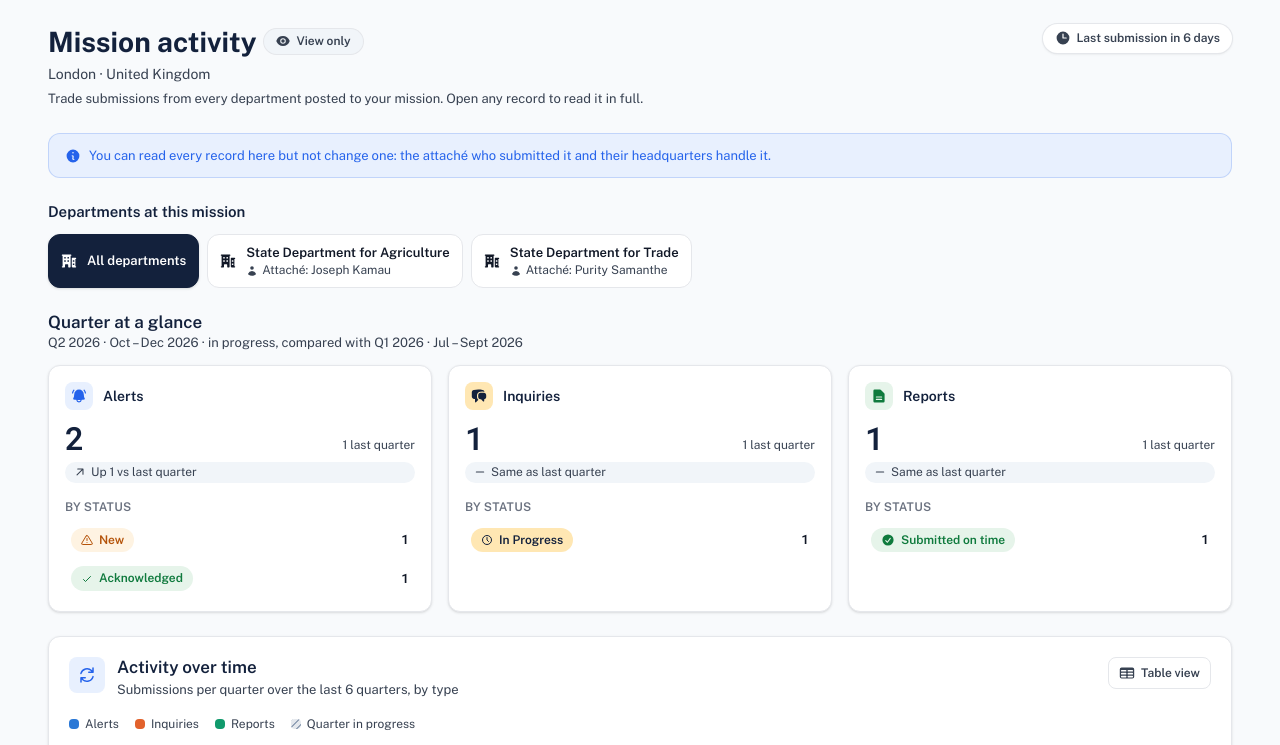
Test: MissionActivityPage › opens the feed at a status chosen in the quarter summary
Click the button with aria-label "Show the 1 alerts with status New in the feed": (103, 540) [65,524,415,556]
(page scrolled)
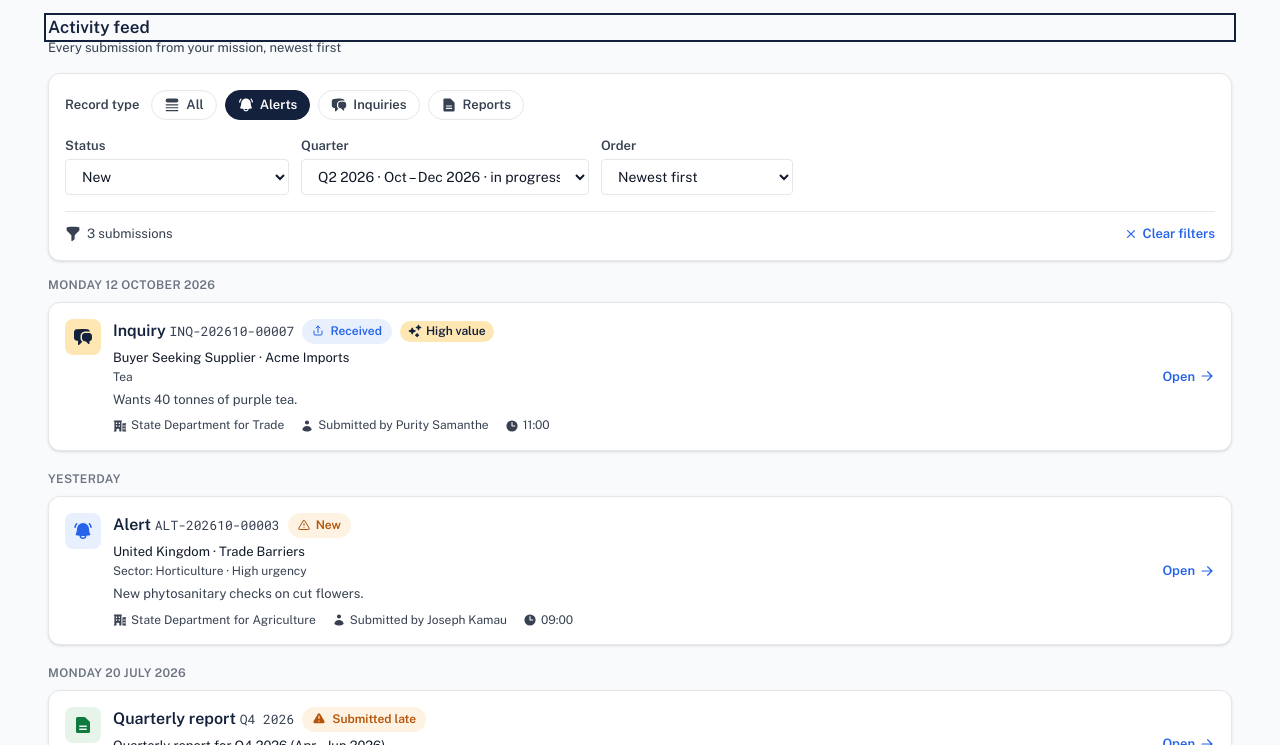
Now the dropdown labelled "Status" shows "New", box [65,159,289,195]
